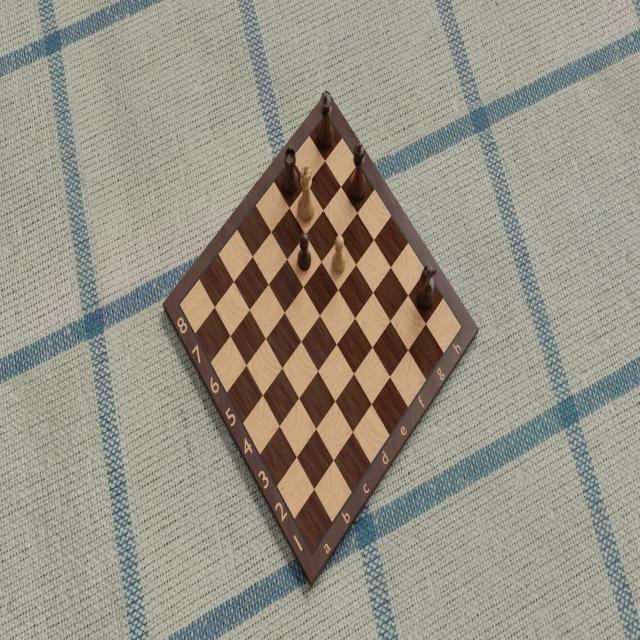black-king: (348, 142, 368, 200)
black-knight: (415, 261, 436, 311)
black-queen: (316, 89, 336, 150)
black-rook: (281, 145, 298, 194)
white-king: (295, 164, 316, 224)
white-pawn: (330, 233, 348, 278)
